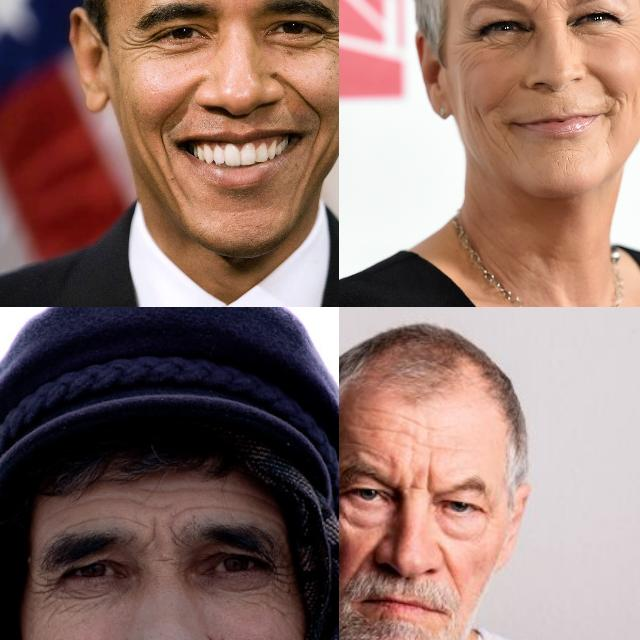chin: (549, 148, 577, 168)
crows_feet: (33, 568, 66, 608), (118, 32, 150, 64), (274, 556, 294, 602), (460, 24, 482, 64), (621, 11, 640, 49), (323, 27, 339, 55), (339, 481, 345, 510)
forehead: (214, 478, 270, 514), (136, 477, 204, 501), (65, 506, 123, 528), (195, 498, 249, 518), (402, 413, 428, 431), (367, 404, 399, 418)
frown_line: (145, 512, 179, 554), (419, 462, 433, 496), (533, 0, 565, 14)
gummy_smile: (275, 72, 325, 118), (154, 88, 192, 136), (488, 81, 520, 111), (590, 64, 620, 92), (349, 544, 373, 572), (438, 548, 456, 578)
sad_smile: (152, 153, 188, 205), (304, 138, 328, 206), (482, 120, 514, 154), (606, 102, 624, 142)
